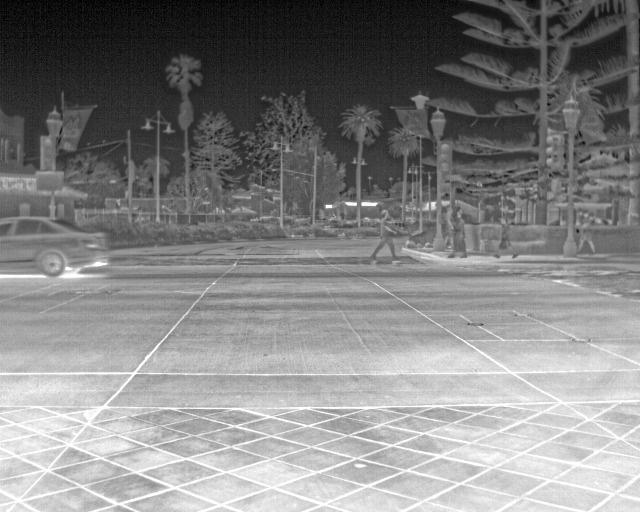bicycle: (0, 216, 110, 279)
empty: (368, 207, 402, 268), (445, 206, 471, 259), (492, 217, 518, 260), (574, 213, 598, 257)
